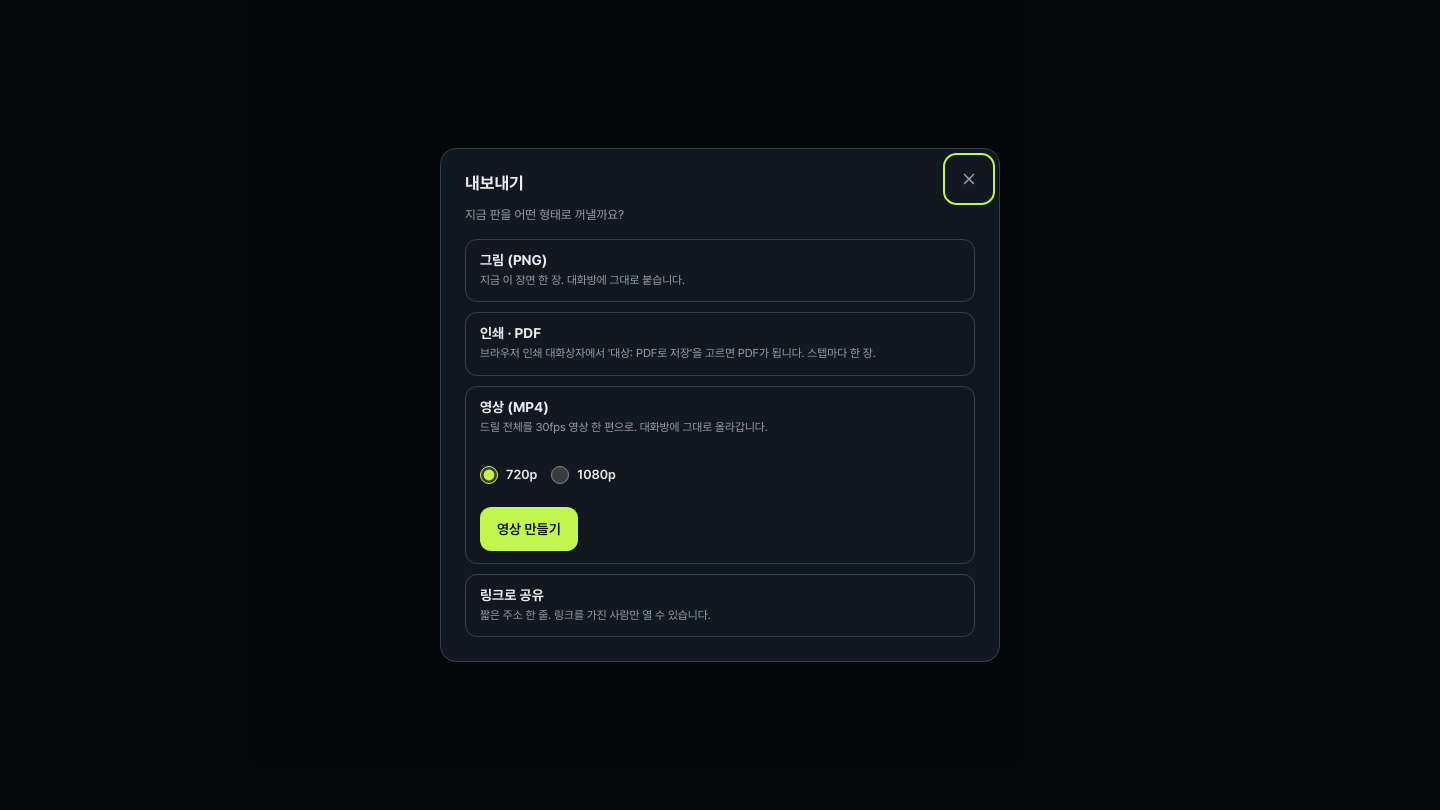
Test: [그림] → 4.4 의 래스터 어댑터를 부른다 › 래스터가 실패하면 파일을 떨구지 않고 그 사유를 토스트로 말한다
Click the button "그림 (PNG) 지금 이 장면 한 장. 대화방에 그대로 붙습니다." at (514, 260), box [465,239,975,302]
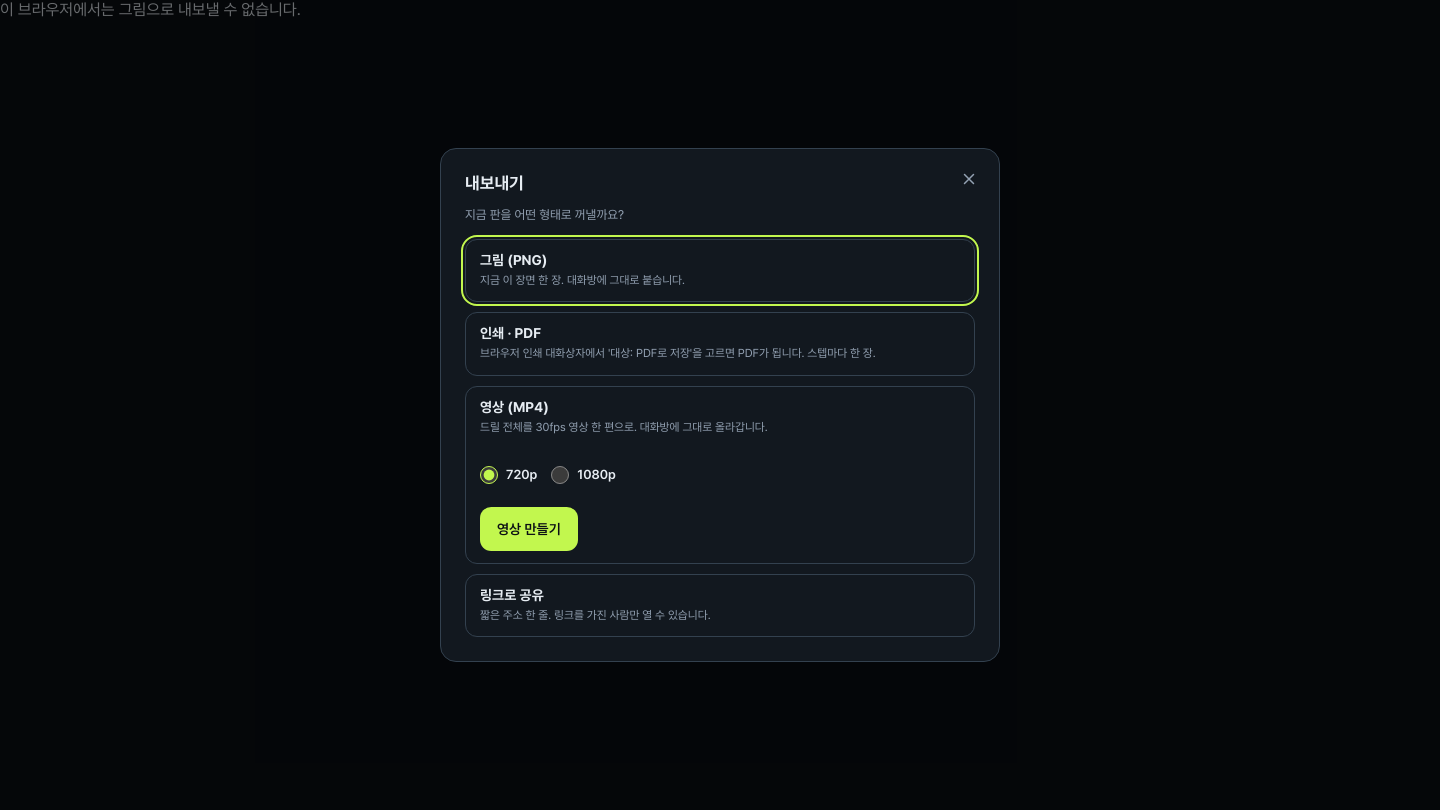
Result: the list item "이 브라우저에서는 그림으로 내보낼 수 없습니다." is shown at [0,0,301,19]
